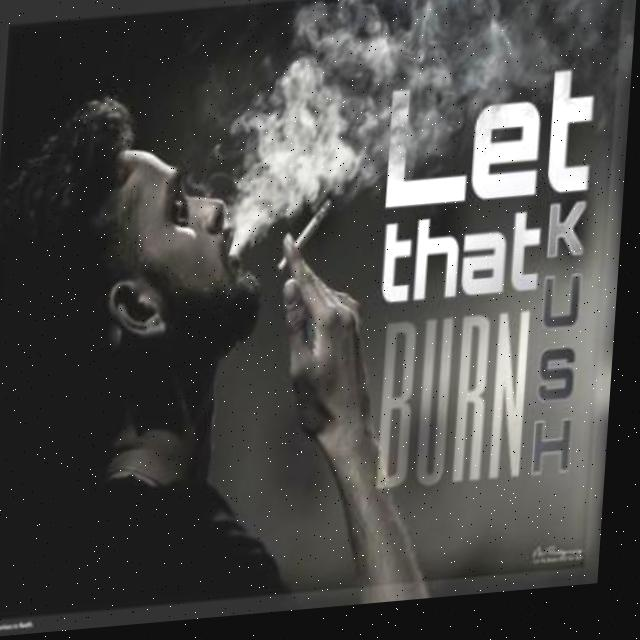cigarette: (281, 202, 335, 279)
